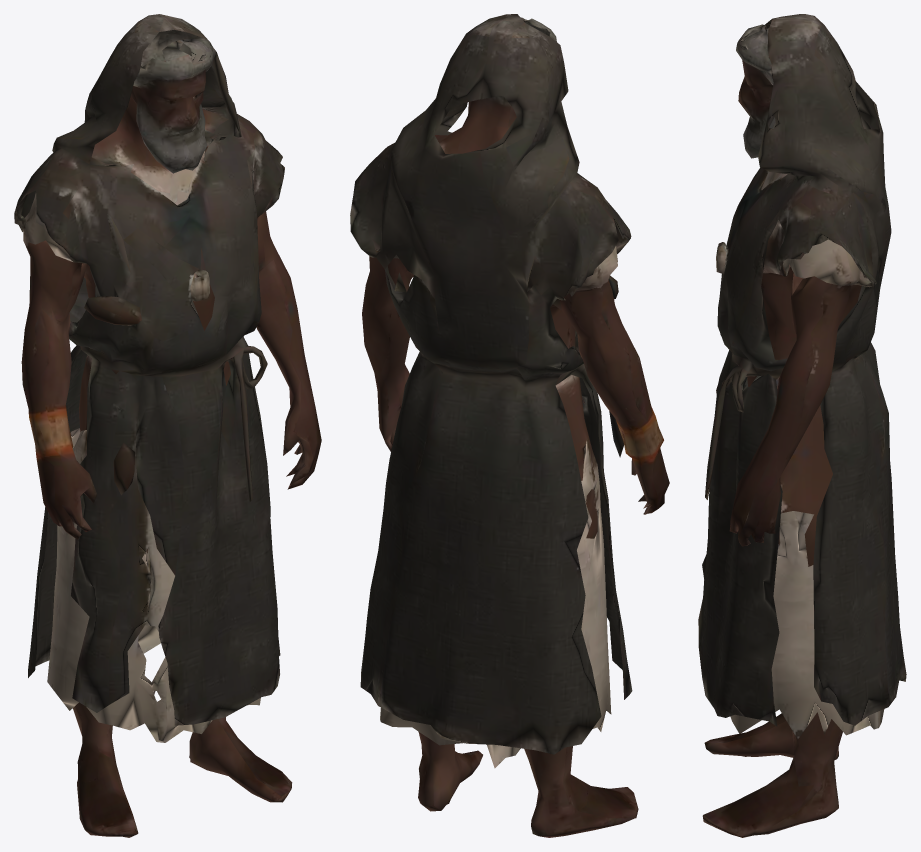
File: witness.glb
3 views of the same model, side by side, from view 1: azimuth 30°, elevation 25°; view 2: azimuth 150°, elevation 25°; view 3: azimuth 270°, elevation 25° (orthographic). The views are drawn at different scales.
Visible parts, largest first — view 1: geometry_0; view 2: geometry_0; view 3: geometry_0.
Boxes of the visible parts, left/top/right/bottom form: geometry_0: left=14, top=14, right=321, bottom=837; geometry_0: left=350, top=14, right=669, bottom=837; geometry_0: left=698, top=14, right=906, bottom=837.
Bounding box in the file's own units: 0.369 × 0.9975 × 0.2437.
Materials: 1 (1 with a texture image).
